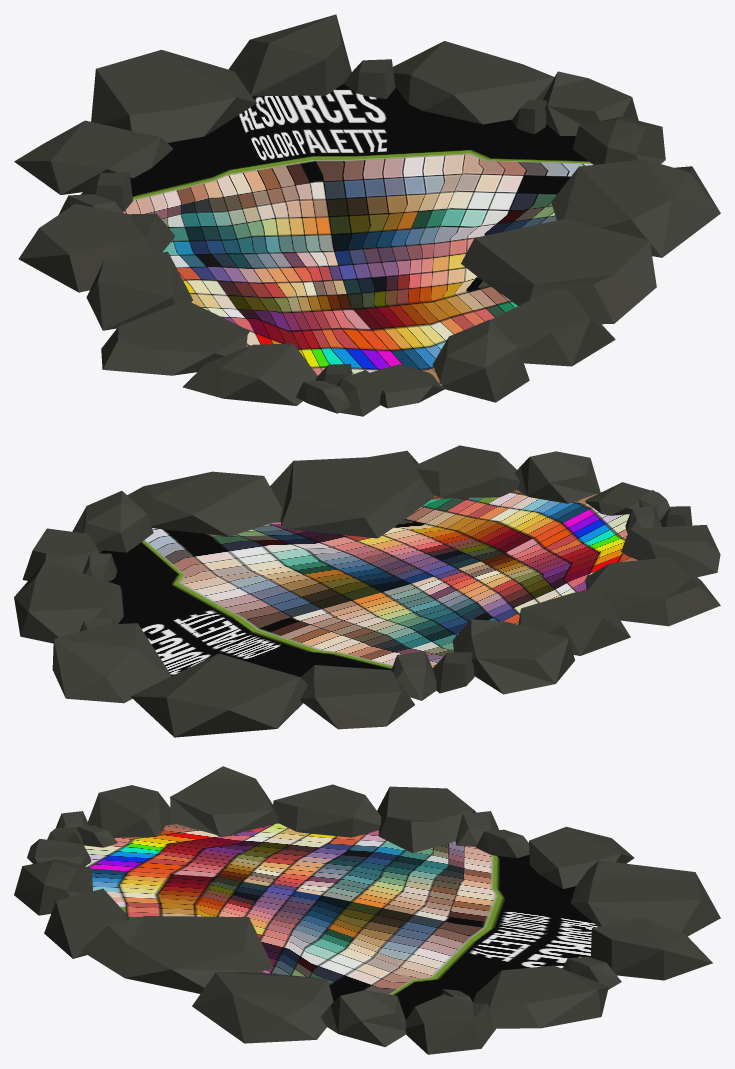
The model's file is mod_pond.fbx.
The picture shows the model from 3 angles, top to bottom: view 1: azimuth 30°, elevation 25°; view 2: azimuth 150°, elevation 25°; view 3: azimuth 270°, elevation 25°; orthographic projection. The views are drawn at different scales.
Parts seen in each view (by area): view 1: RocksWater, water; view 2: RocksWater, water; view 3: RocksWater, water.
Boxes of the visible parts, left/top/right/bottom form: RocksWater: left=14, top=14, right=720, bottom=416; water: left=123, top=84, right=593, bottom=385; RocksWater: left=14, top=445, right=720, bottom=737; water: left=100, top=489, right=637, bottom=676; RocksWater: left=14, top=766, right=720, bottom=1054; water: left=84, top=823, right=597, bottom=1019.
Bounding box in the file's own units: 287 × 20.06 × 317.
